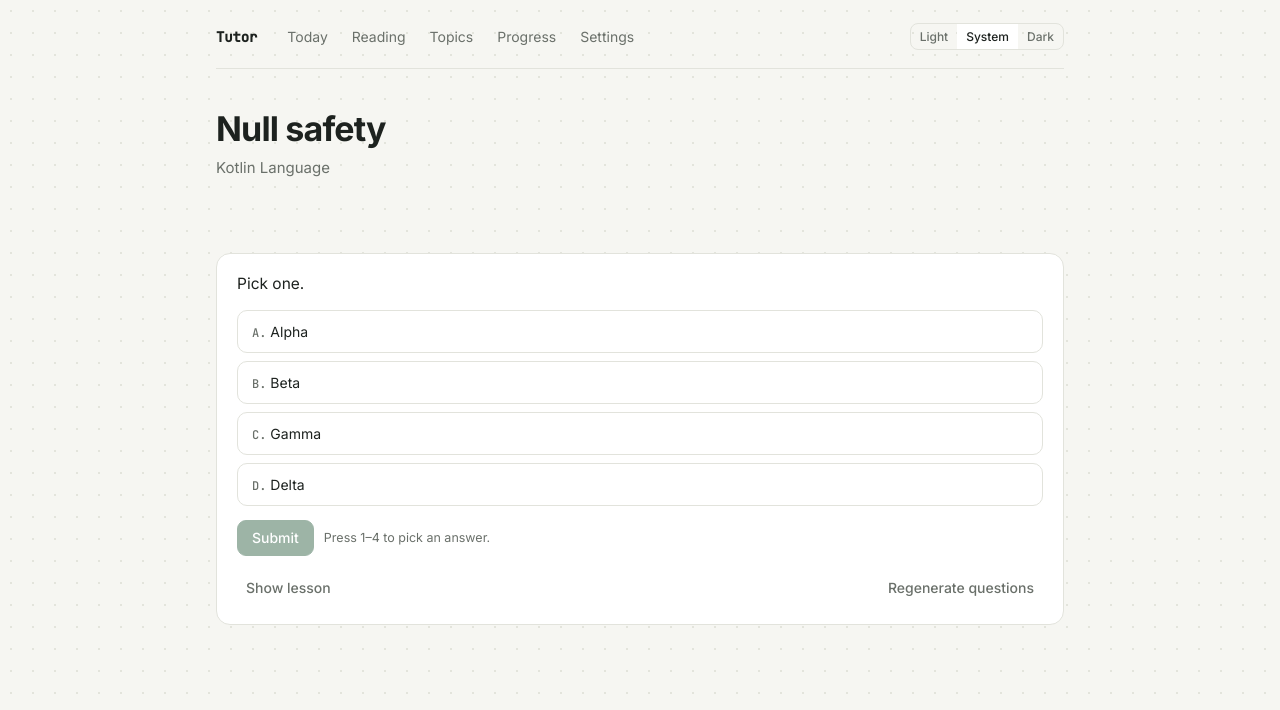
Test case: shows lesson after a wrong review answer
The width and height of the screenshot is (1280, 710).
Click the button "A. Alpha".
click(289, 332)  # box [237,310,1043,353]
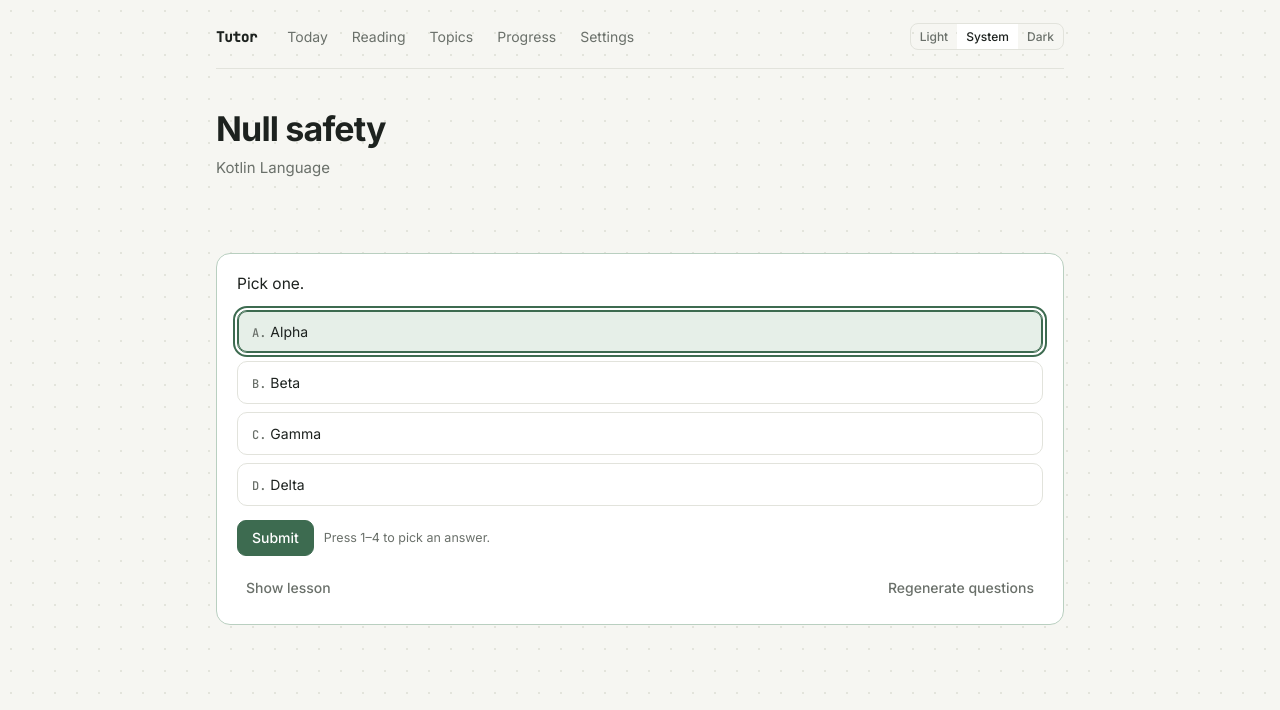
Click the button "Submit".
click(275, 538)  # box [237,520,314,556]
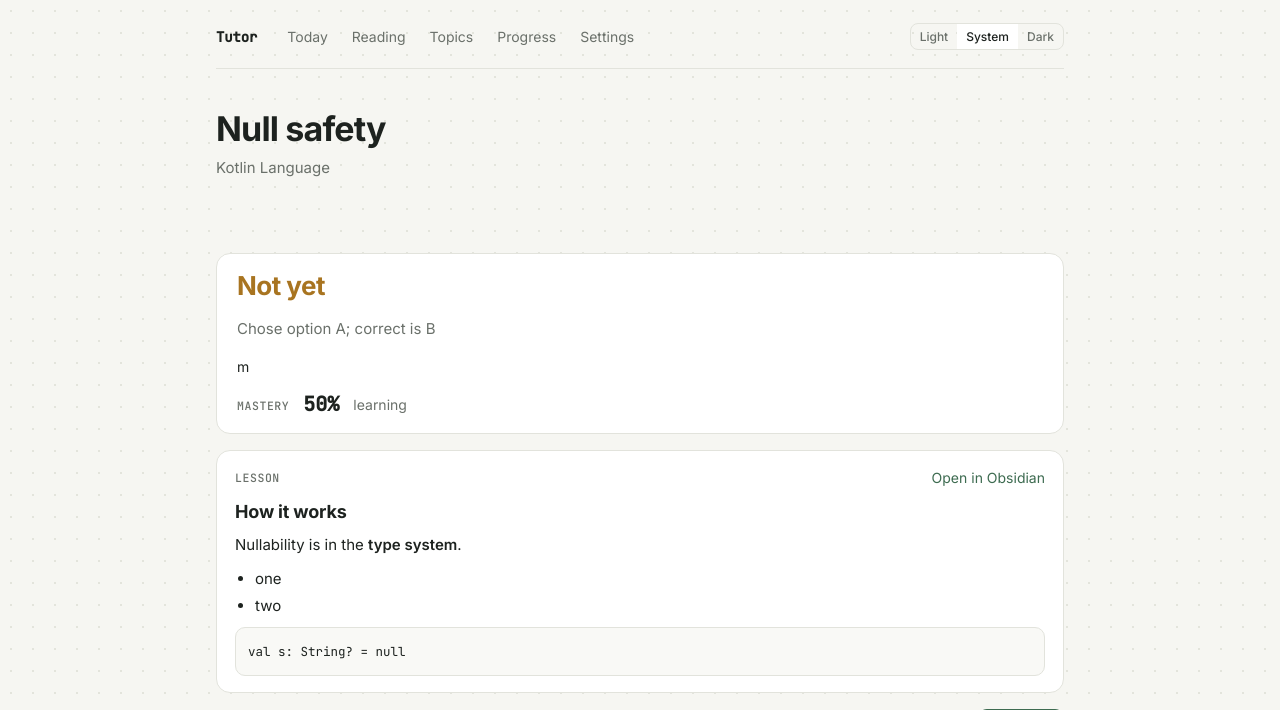
Now the text "Not yet" is shown, box [237,270,325,301]
Now the heading "How it works" is shown, box [235,501,347,522]
